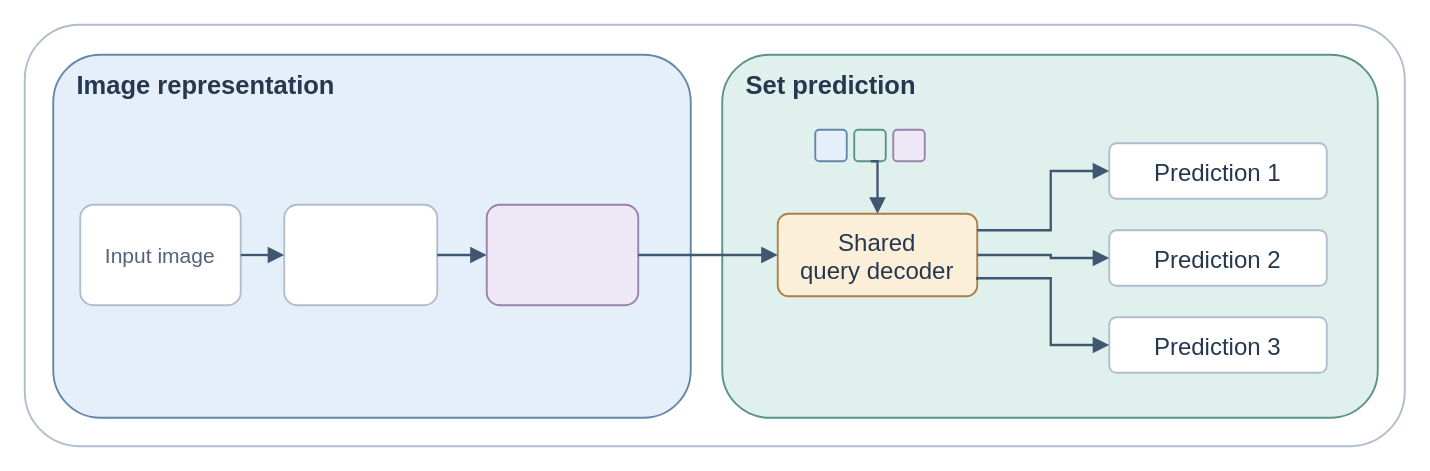
Image size: 1430x471. Some labels were removed from this diagram. Each missing label, with the centre of its shape:
"Backbone" goes at [360,254].
"Encoder" goes at [562,254].
